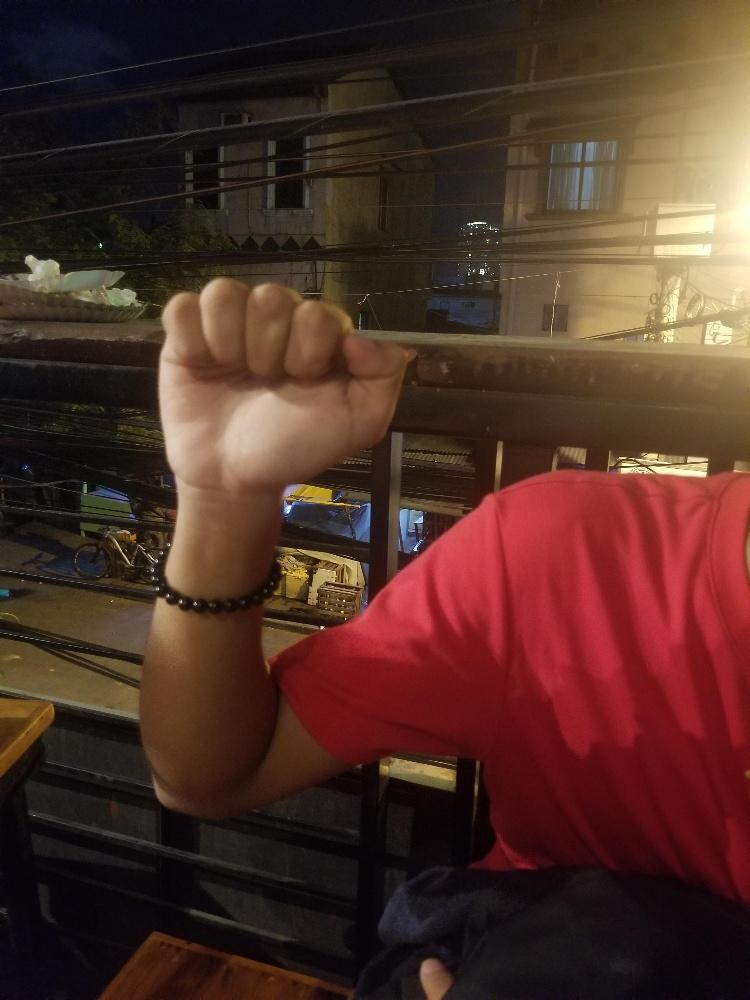a: (155, 278, 406, 481)
